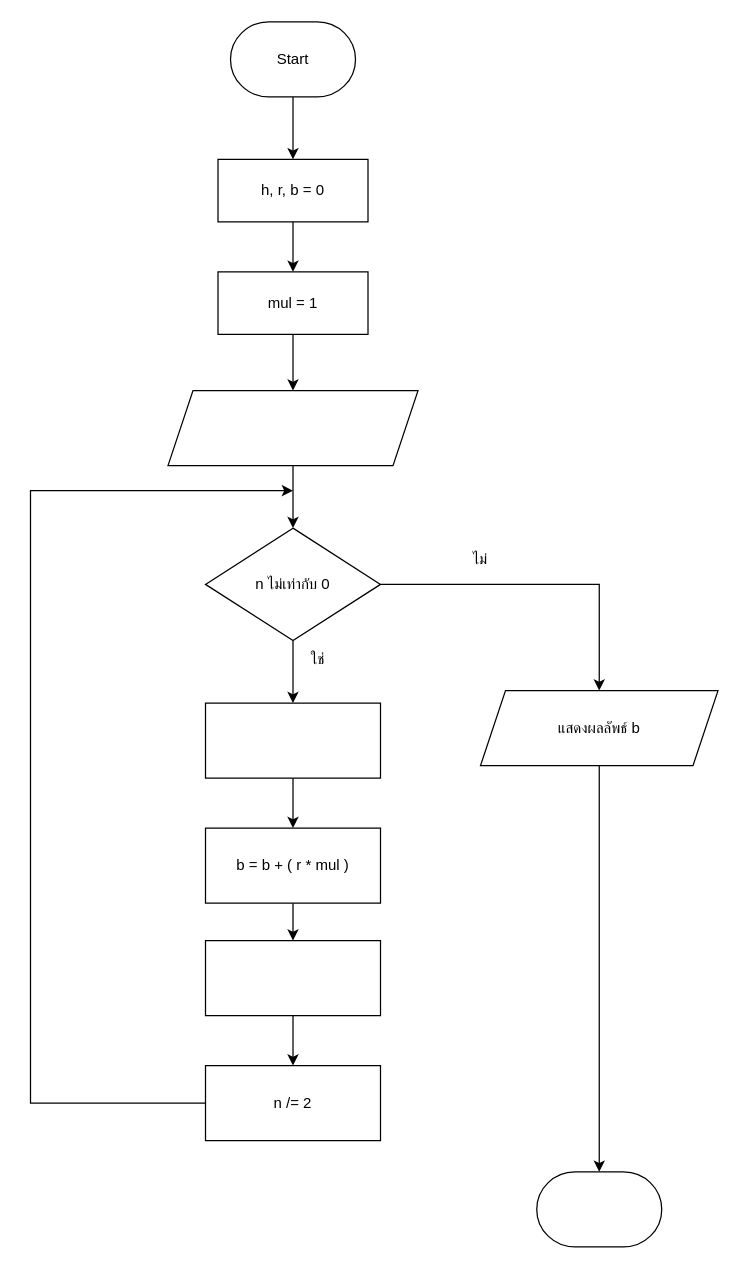
Image size: 740x1269. Some labels were removed from this diagram. The centre of each missing label's shape, as x and y in pixels:
"End" belongs at pixel 599 1209.
"mul = mul * 10" belongs at pixel 292 977.
"r = n % 2" belongs at pixel 292 740.
"รับค่า n จากคีย์บอร์ด" belongs at pixel 292 427.
